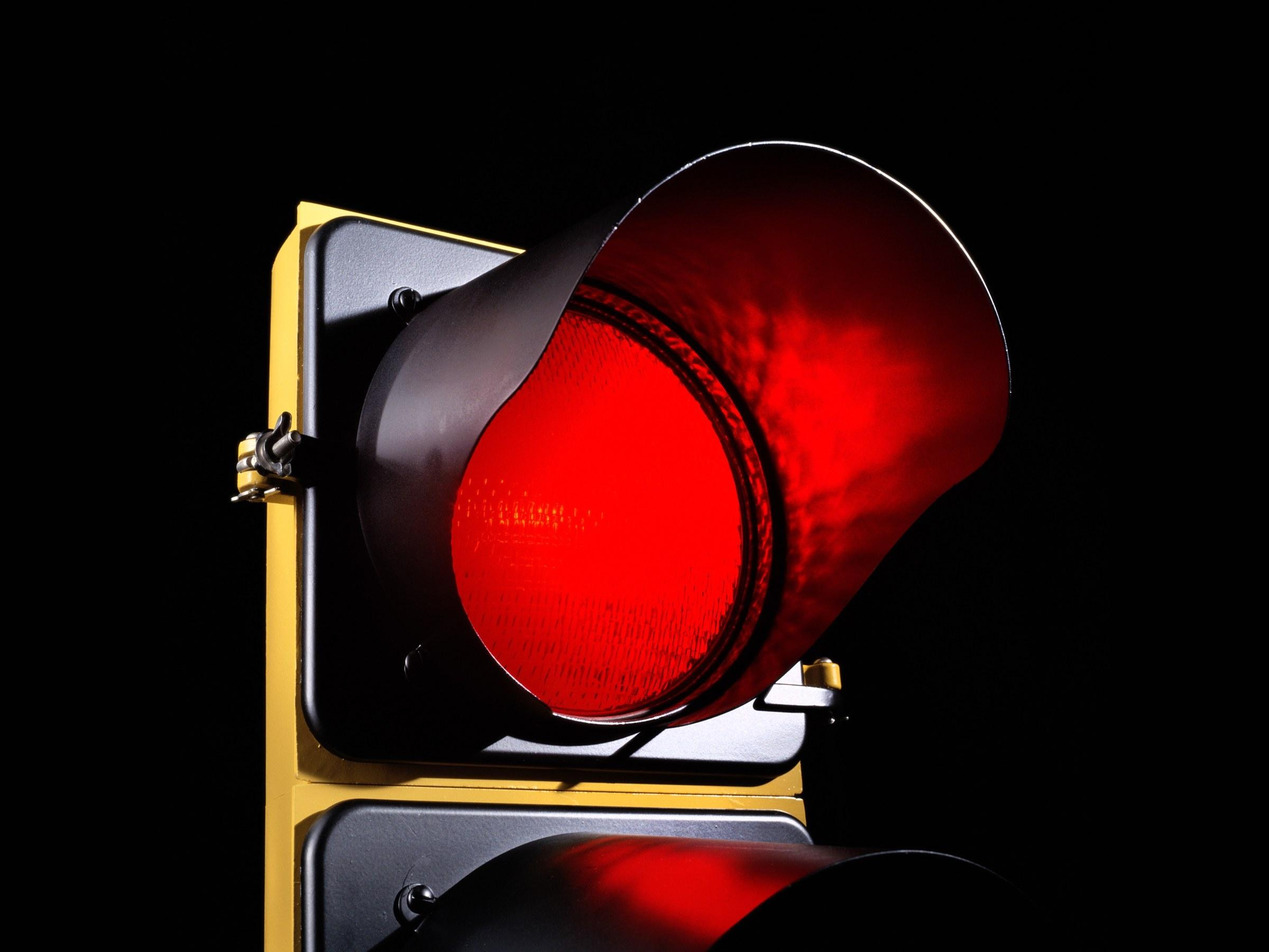red: (238, 180, 1163, 952)
